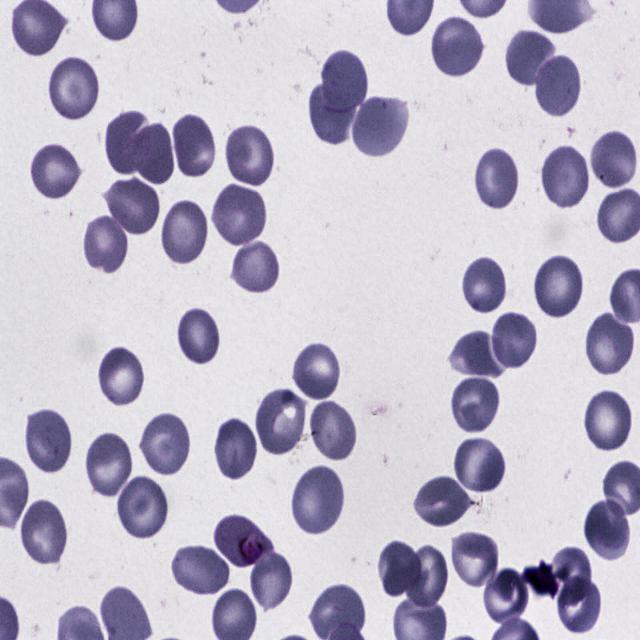red blood cell: (138, 408, 194, 479), (221, 121, 278, 189), (291, 463, 345, 534), (532, 251, 586, 321), (84, 430, 138, 500), (125, 114, 176, 188), (212, 181, 268, 248), (349, 93, 406, 158), (532, 48, 584, 119), (24, 407, 75, 478), (106, 105, 156, 177), (431, 13, 485, 79), (48, 56, 102, 122), (28, 141, 86, 202), (118, 473, 169, 542), (582, 387, 636, 452), (412, 475, 477, 529), (170, 110, 218, 183), (160, 197, 210, 267), (539, 142, 592, 208), (446, 330, 517, 379), (255, 387, 306, 455), (304, 79, 358, 143), (584, 312, 636, 378), (170, 541, 230, 598), (474, 142, 522, 213), (290, 338, 343, 402), (20, 498, 69, 566), (460, 252, 510, 317), (451, 436, 507, 494), (320, 47, 368, 114), (98, 343, 148, 407), (106, 177, 160, 236), (308, 400, 359, 462), (451, 372, 502, 434), (504, 30, 558, 88), (590, 127, 638, 192), (450, 529, 502, 589), (557, 572, 604, 638), (582, 500, 632, 562), (82, 213, 130, 277), (246, 548, 294, 612), (213, 416, 258, 482), (404, 543, 448, 610), (491, 309, 539, 370), (484, 566, 530, 628), (177, 304, 222, 367), (230, 239, 280, 295), (550, 544, 592, 608), (377, 540, 422, 599)
trophozoite: (213, 513, 275, 569)
